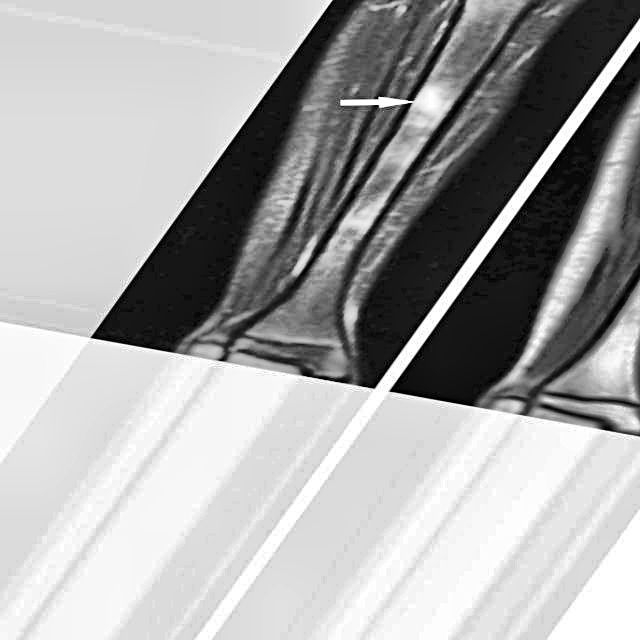Oblique Displaced: (409, 75, 451, 127)
